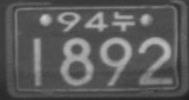1: (23, 38, 53, 86)
2: (138, 36, 174, 85)
4: (84, 11, 109, 32)
8: (60, 37, 93, 86)
9: (98, 36, 133, 86), (57, 10, 80, 32)
누: (111, 11, 135, 31)
